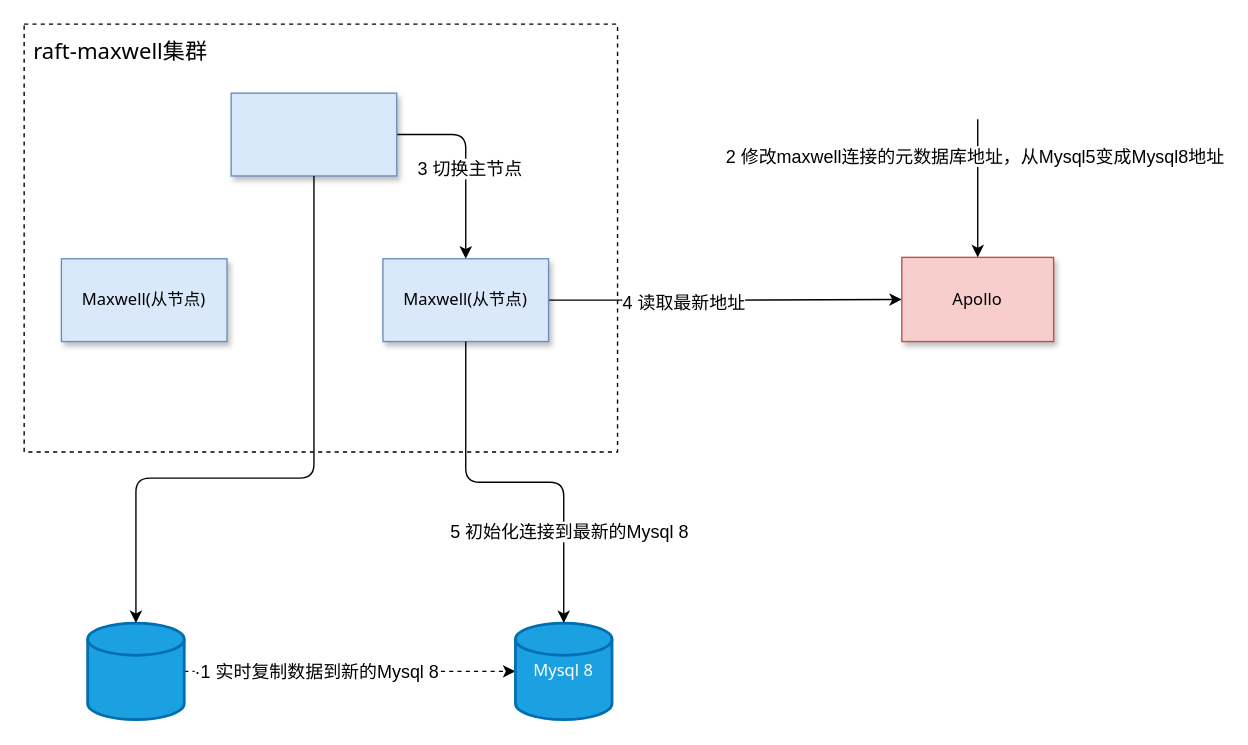
Image size: 1248x745. Some labels were removed from this diagram. Each missing label, with the centre of its shape:
"Maxwell(主节点)" belongs at point 314,136.
"Mysql 5" belongs at point 135,670.
